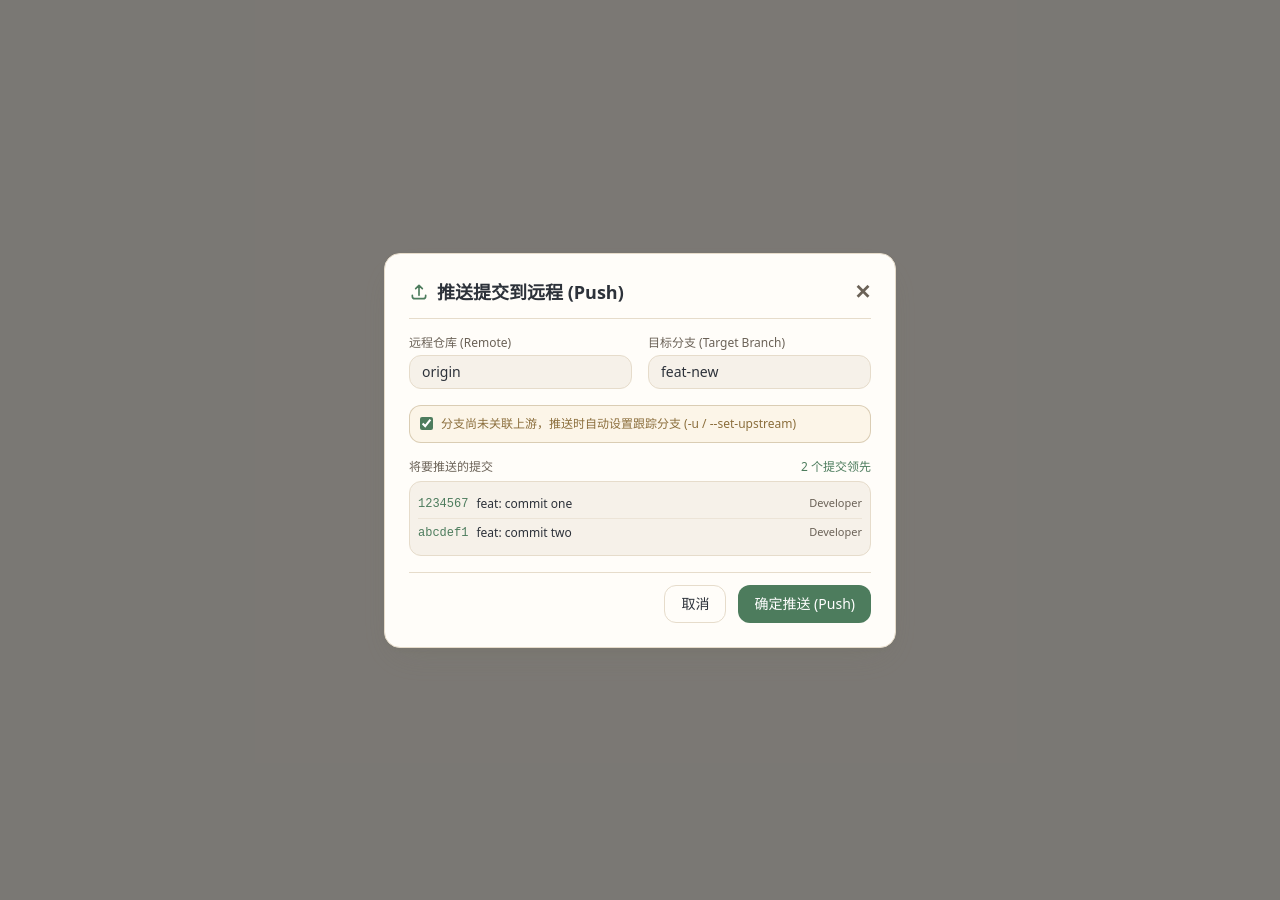
Test: PushModal › displays rejected message and pull option on rejected push
Check: the text "feat: commit one" is shown, box [476,496,572,512]
Click the button "确定推送 (Push)".
click(805, 604)  # box [738,584,871,622]
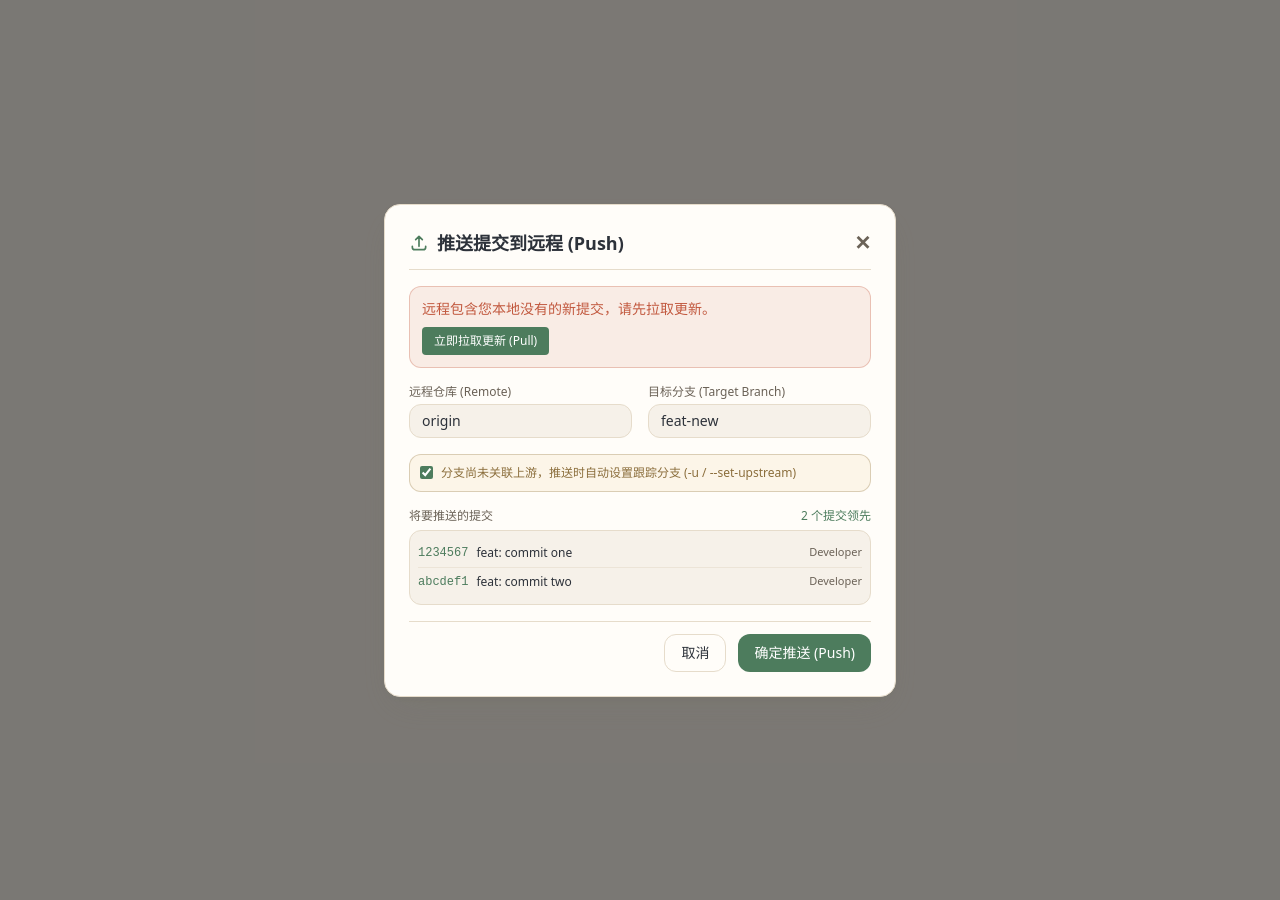
Check: the text "远程包含您本地没有的新提交，请先拉取更新。" is shown, box [422,298,716,318]
Check: the button "立即拉取更新 (Pull)" is shown, box [422,326,549,354]
